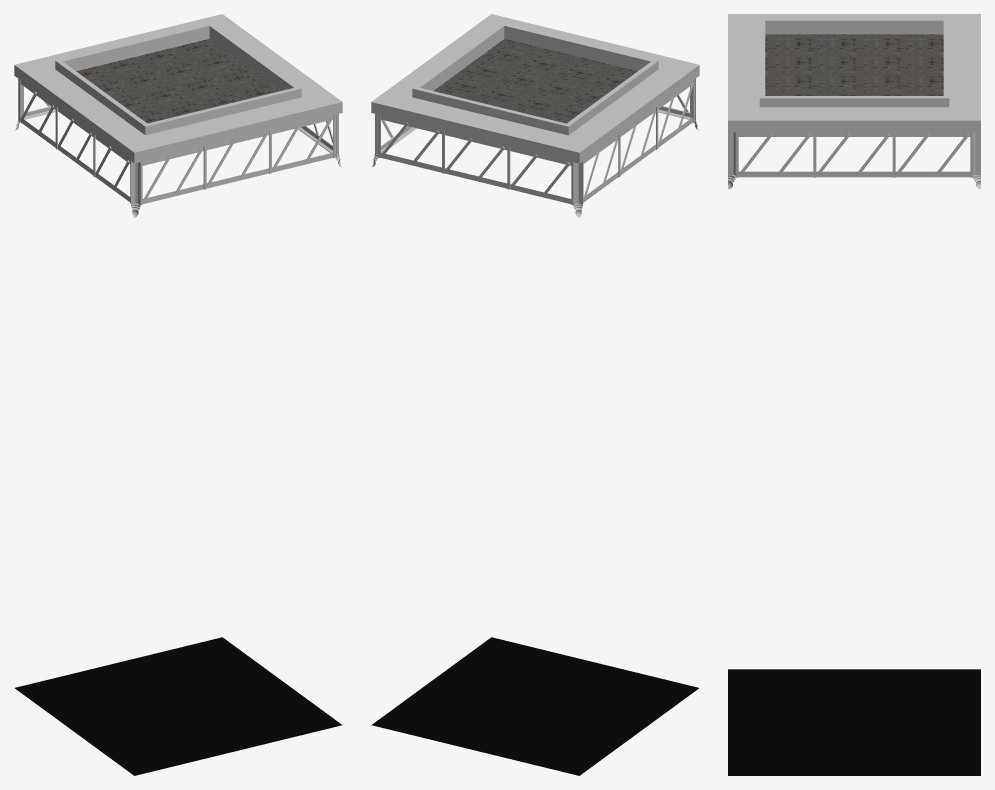
Rendered from Ceiling.fbx.
The picture shows the model from 3 angles, left to right: view 1: azimuth 30°, elevation 25°; view 2: azimuth 150°, elevation 25°; view 3: azimuth 270°, elevation 25°; orthographic projection. The views are drawn at different scales.
Visible parts, largest first — view 1: CeilingFrame, PitFloor, CeilingGlass; view 2: CeilingFrame, PitFloor, CeilingGlass; view 3: PitFloor, CeilingFrame, CeilingGlass.
Boxes of the visible parts, x1,y1,x2,y2 form: CeilingFrame: (14,14,342,217); PitFloor: (15,637,342,775); CeilingGlass: (76,39,280,123); CeilingFrame: (371,14,699,217); PitFloor: (371,637,698,775); CeilingGlass: (433,39,637,123); PitFloor: (728,669,980,775); CeilingFrame: (728,14,980,189); CeilingGlass: (765,34,943,95).
Bounding box in the file's own units: 500 × 1450 × 500.
